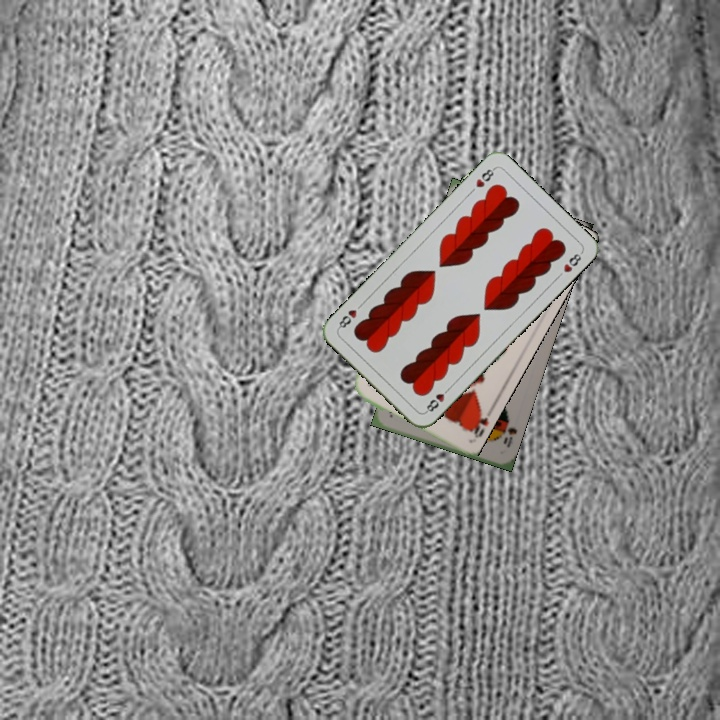H8: (421, 383, 453, 415), (472, 164, 498, 190)
HO: (464, 402, 491, 441)
SO: (499, 423, 519, 450)
